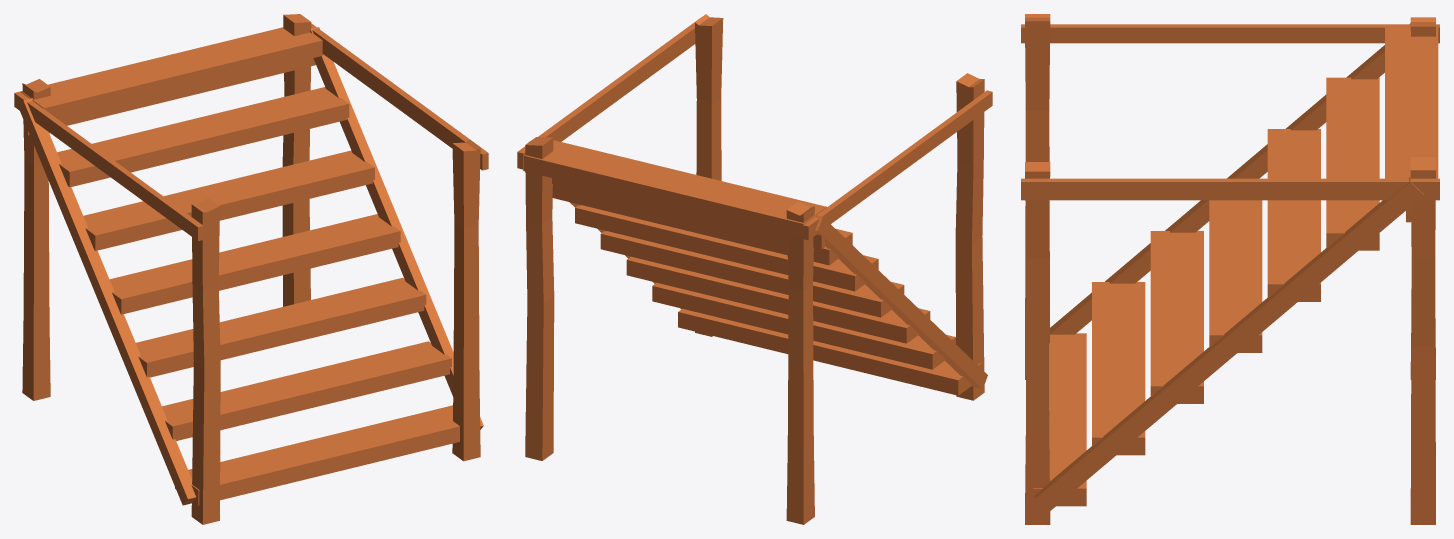
The model's file is Wood Stairs 1.glb.
The picture shows the model from 3 angles, left to right: view 1: azimuth 30°, elevation 25°; view 2: azimuth 150°, elevation 25°; view 3: azimuth 270°, elevation 25°; orthographic projection. The views are drawn at different scales.
Visible parts, largest first — view 1: WoodStairs1; view 2: WoodStairs1; view 3: WoodStairs1.
Part boxes in pixels (bbox=[...]): WoodStairs1: bbox=[14, 14, 488, 524]; WoodStairs1: bbox=[517, 14, 992, 524]; WoodStairs1: bbox=[1021, 14, 1439, 524].
Bounding box in the file's own units: 2.01 × 2.05 × 2.17.
